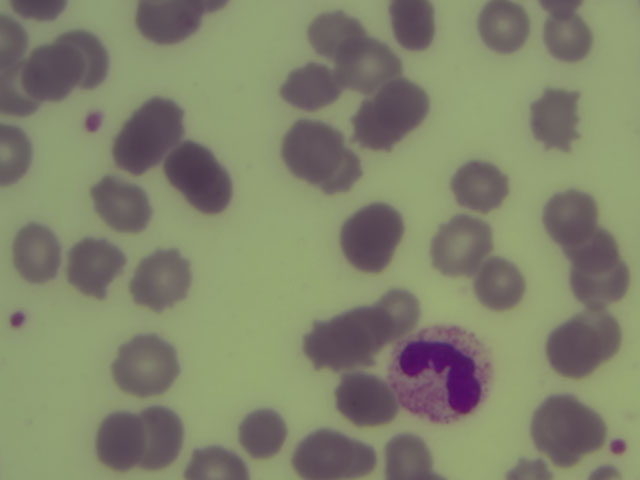Platelets: (78, 108, 111, 137), (602, 433, 632, 462), (6, 305, 30, 337)
RBC: (86, 179, 156, 233), (356, 287, 425, 339), (136, 1, 211, 45), (118, 338, 176, 394), (287, 125, 345, 181), (528, 93, 586, 149), (539, 5, 597, 61), (358, 88, 416, 144), (168, 148, 226, 204), (117, 108, 175, 164), (132, 253, 190, 309), (66, 239, 124, 295), (27, 41, 85, 97), (233, 400, 291, 456), (433, 217, 491, 273), (542, 326, 600, 382), (570, 259, 628, 315), (449, 158, 507, 214), (538, 400, 596, 456), (334, 369, 392, 425), (342, 209, 400, 265), (11, 223, 62, 286), (475, 1, 533, 56), (133, 406, 183, 469), (292, 434, 360, 480), (334, 39, 405, 83), (311, 317, 373, 367), (542, 189, 595, 240), (94, 414, 143, 467), (473, 257, 526, 306), (384, 1, 435, 49), (309, 8, 363, 52), (280, 64, 335, 107), (559, 226, 615, 268), (382, 433, 432, 480), (1, 124, 33, 190), (1, 63, 40, 116), (185, 451, 248, 480), (1, 13, 25, 71)
WBC: (393, 330, 493, 420)
